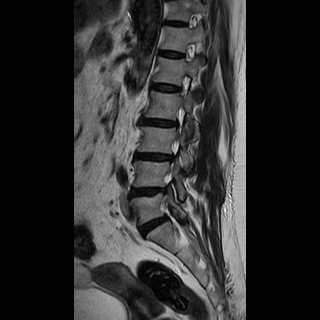LFS0: (172, 71, 197, 101)
